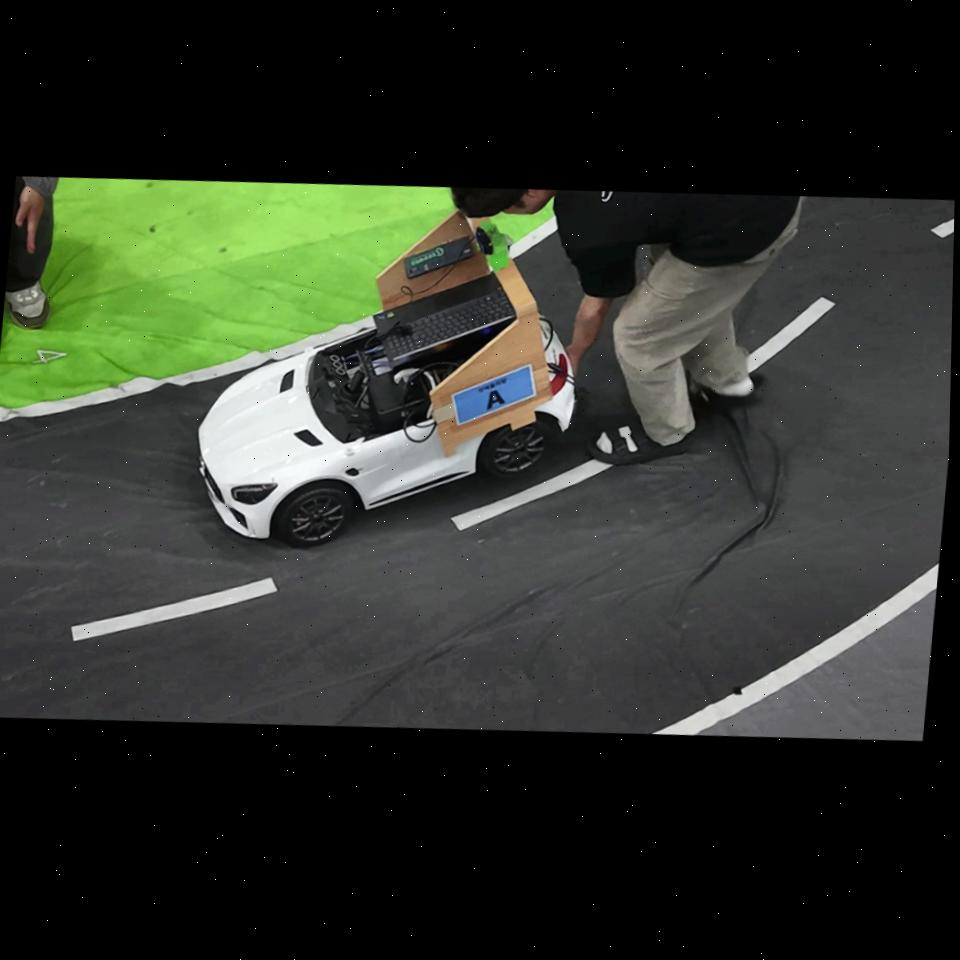broken_line: (71, 578, 277, 641), (452, 461, 611, 531), (748, 297, 836, 374), (932, 219, 954, 238)
